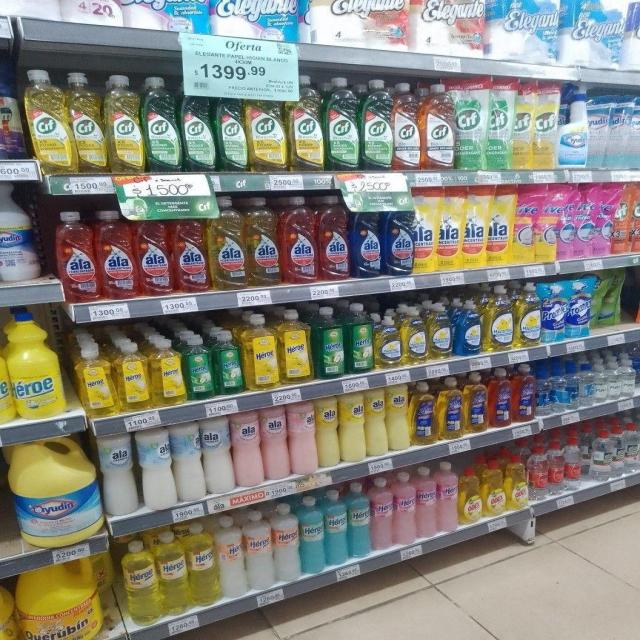ala_conc_amarillo: (209, 198, 246, 290), (247, 196, 280, 287)
ala_conc_azul: (351, 196, 382, 278), (384, 195, 413, 276)
ala_conc_rojo: (54, 210, 96, 303), (98, 209, 136, 300), (281, 195, 317, 284), (136, 208, 171, 296), (173, 207, 208, 294), (318, 194, 350, 282)
ala_crem_amarillo: (340, 391, 364, 463), (316, 395, 339, 468), (388, 382, 410, 452), (366, 386, 387, 457)
ala_crem_blanco: (100, 431, 137, 517), (137, 426, 174, 510), (174, 421, 203, 502), (204, 416, 232, 495)
ala_crem_rosado: (233, 409, 262, 488), (262, 405, 288, 481), (290, 400, 316, 476)
ala_sachet_amarillo: (437, 185, 461, 271), (462, 184, 486, 268), (487, 185, 511, 266), (414, 185, 436, 273)
cif_conc_bot_amarilla: (26, 68, 70, 173), (105, 74, 142, 173), (70, 72, 104, 174), (247, 84, 286, 172), (288, 74, 323, 172)
cif_conc_botella_roja: (422, 83, 454, 171), (393, 81, 420, 172)
cif_conc_botella_verde: (143, 76, 180, 172), (324, 76, 360, 171), (181, 82, 215, 172), (361, 78, 392, 170), (216, 85, 246, 172)
cif_conc_sachet_amarillo: (533, 81, 557, 169), (512, 80, 532, 170)
cif_conc_sachet_verde: (455, 78, 486, 170), (486, 78, 512, 170)
drive: (512, 185, 534, 264)
heroe: (121, 539, 158, 625), (75, 342, 115, 417), (244, 312, 280, 390), (188, 522, 218, 606), (150, 337, 186, 406), (280, 309, 313, 384), (159, 531, 188, 616), (116, 341, 150, 412), (218, 515, 245, 599), (314, 306, 345, 378), (246, 509, 273, 590), (274, 502, 300, 582), (346, 303, 374, 374), (185, 334, 215, 399), (215, 329, 244, 395), (300, 496, 324, 574), (348, 481, 371, 558), (394, 471, 416, 546), (371, 476, 393, 551), (326, 488, 347, 566), (437, 461, 458, 533), (416, 466, 436, 539)
magistral_con_amarillo: (484, 284, 513, 352), (515, 282, 541, 348), (375, 311, 401, 369), (402, 306, 427, 365), (428, 302, 451, 360)
magistral_con_azul: (455, 298, 482, 356)
odex: (458, 464, 482, 524), (482, 461, 505, 517), (506, 455, 528, 510)
zorro: (437, 376, 462, 440), (411, 381, 435, 445), (488, 367, 512, 428), (512, 364, 536, 424), (464, 372, 487, 434)
